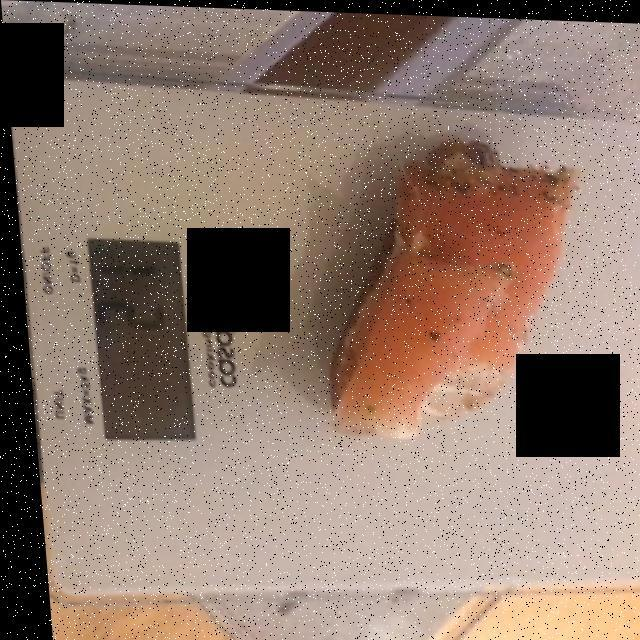bread: (323, 143, 571, 430)
mayonnaise: (405, 366, 493, 426)
salmon: (331, 150, 566, 445)
